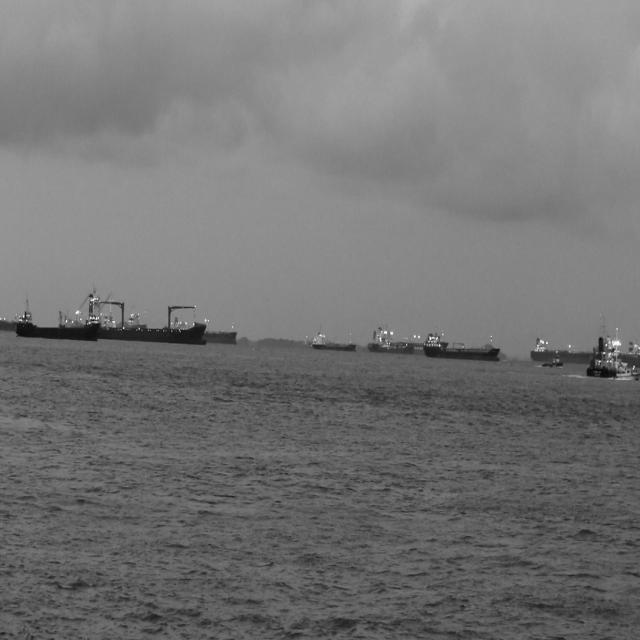ship: (58, 288, 210, 344), (17, 295, 101, 341), (588, 312, 628, 379), (367, 323, 449, 354), (423, 332, 501, 361), (532, 335, 600, 364), (312, 329, 357, 353), (205, 324, 239, 345), (621, 341, 640, 369), (614, 366, 639, 381), (0, 314, 18, 334), (539, 357, 563, 368)
